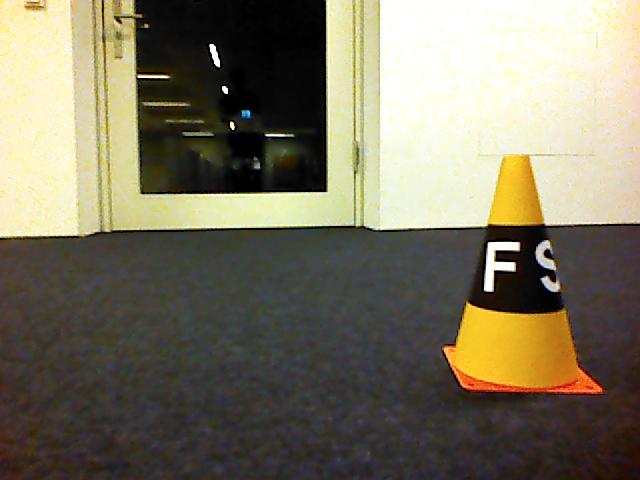yellowcone: (443, 153, 607, 398)
